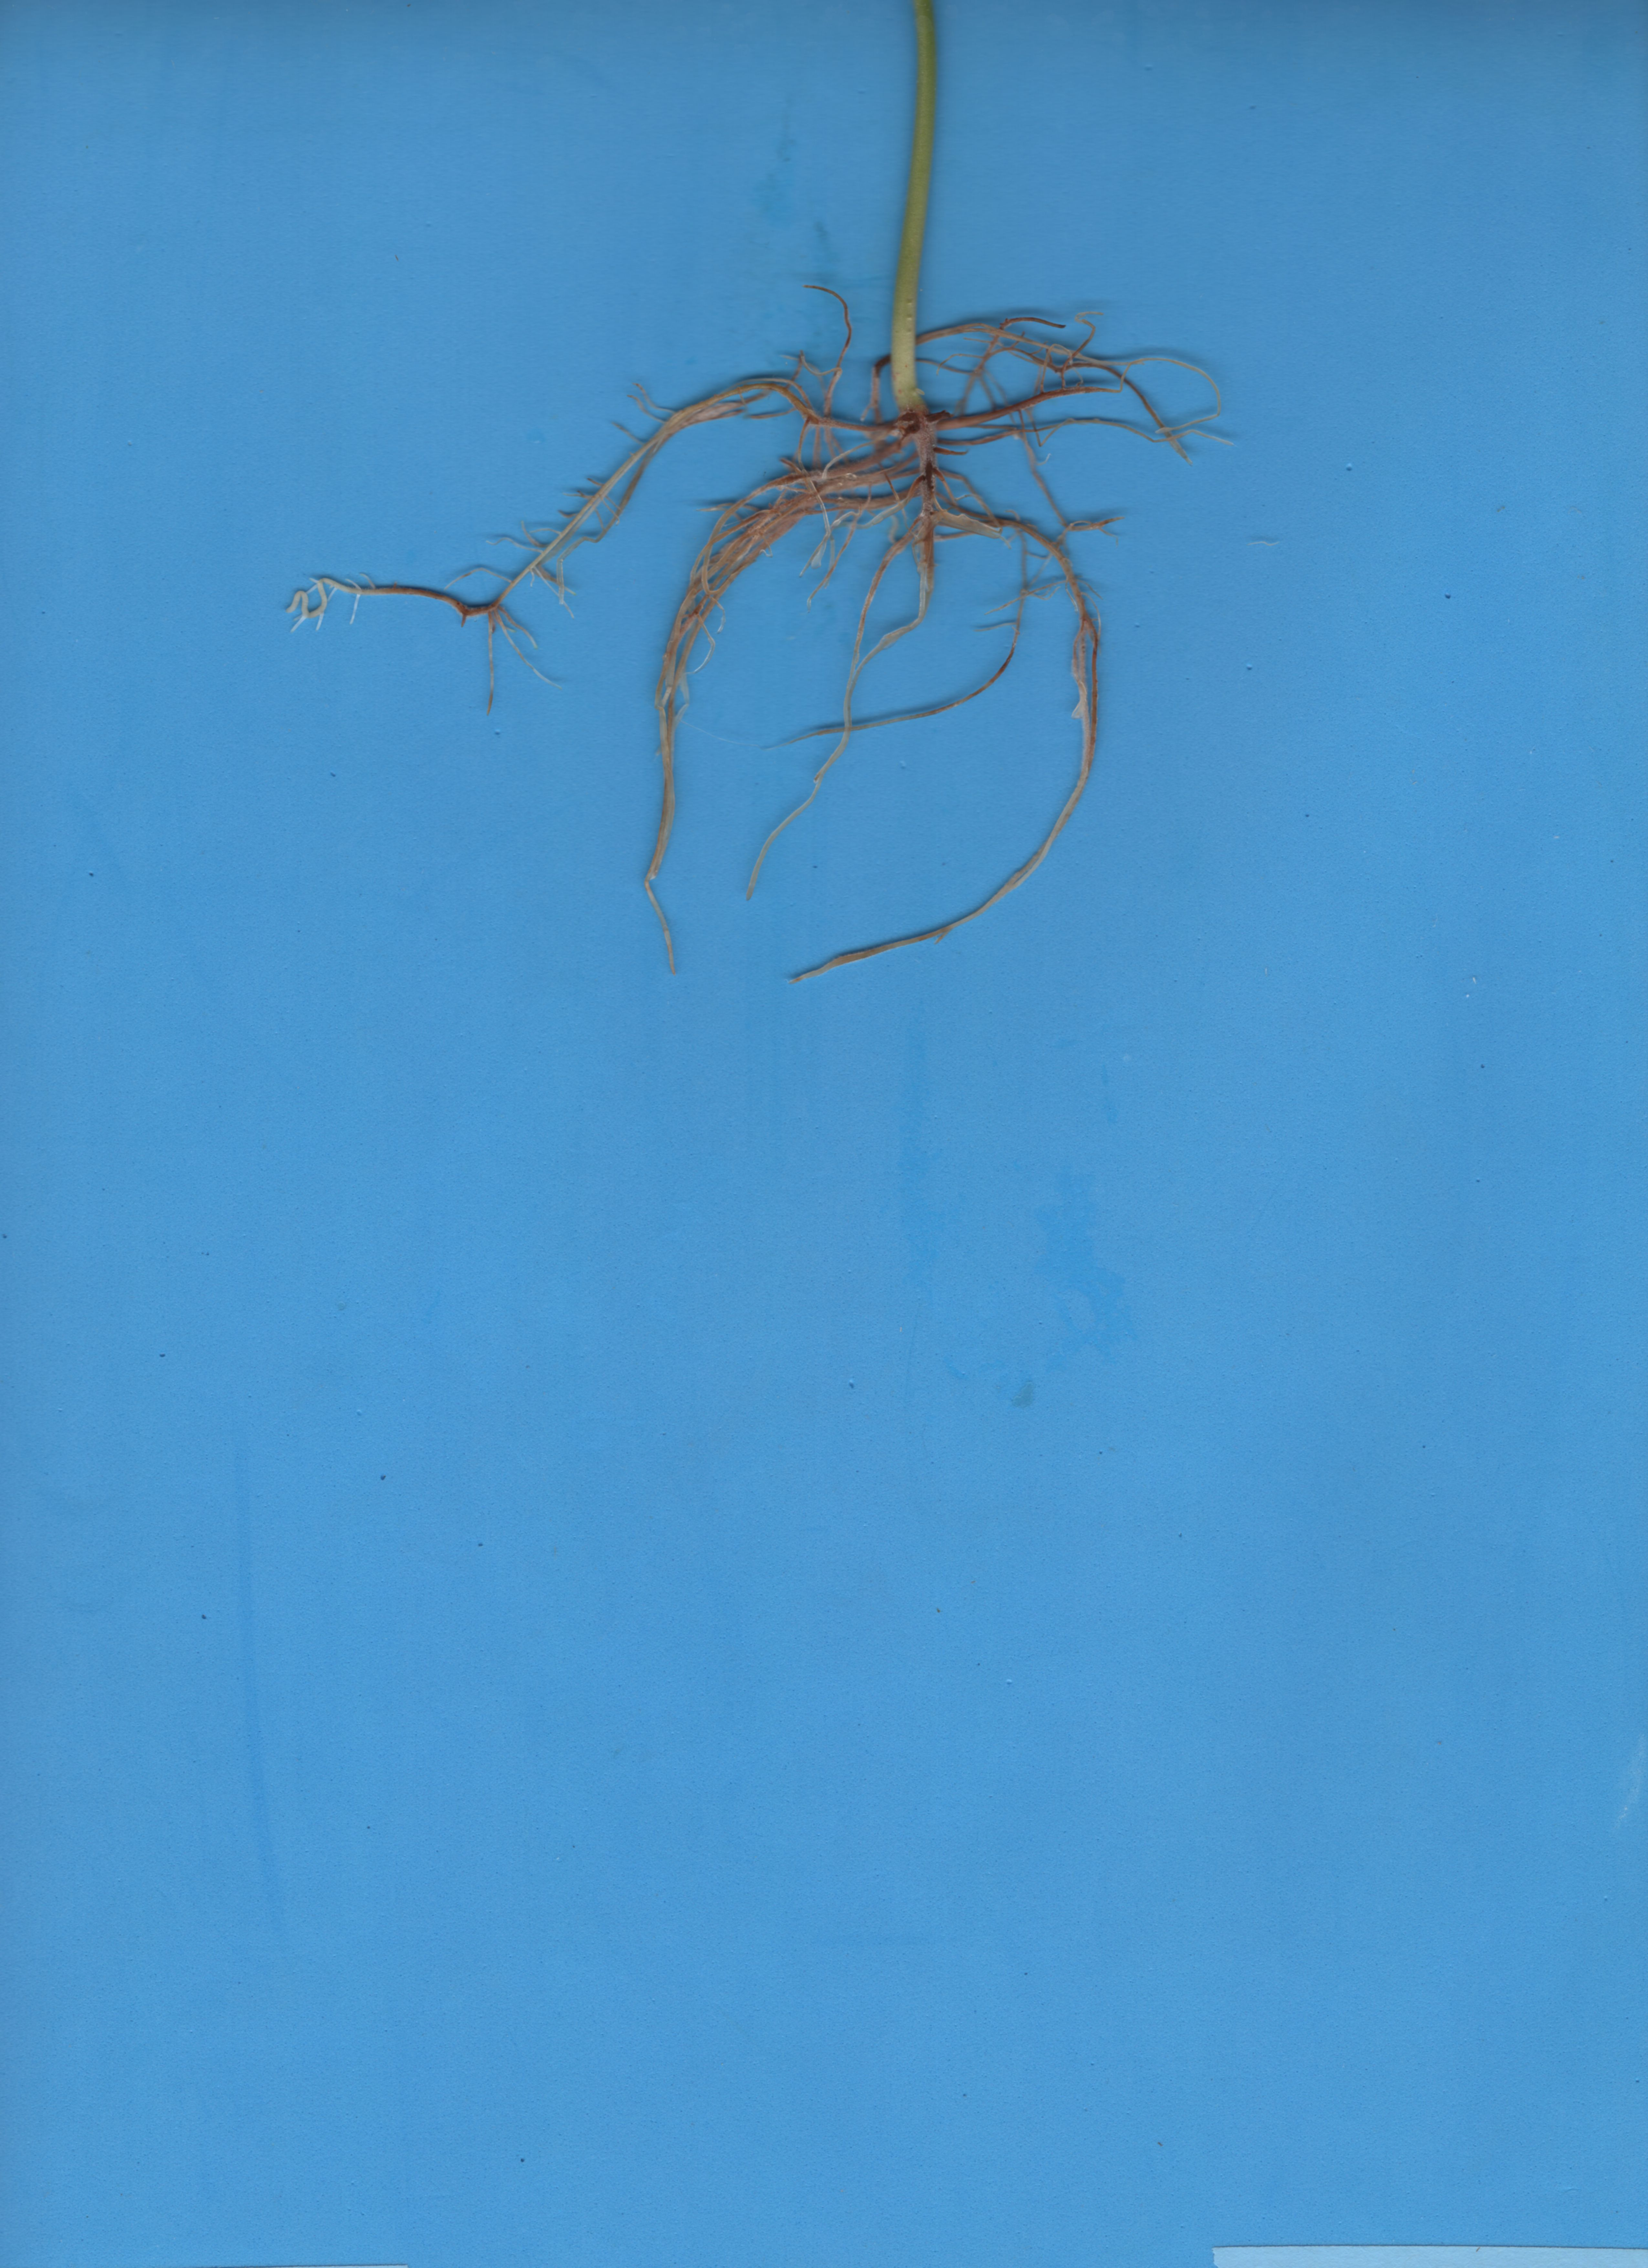CROWNGOOD: (850, 5, 1023, 387)
ROOTDISEASE: (222, 296, 1366, 1037)
